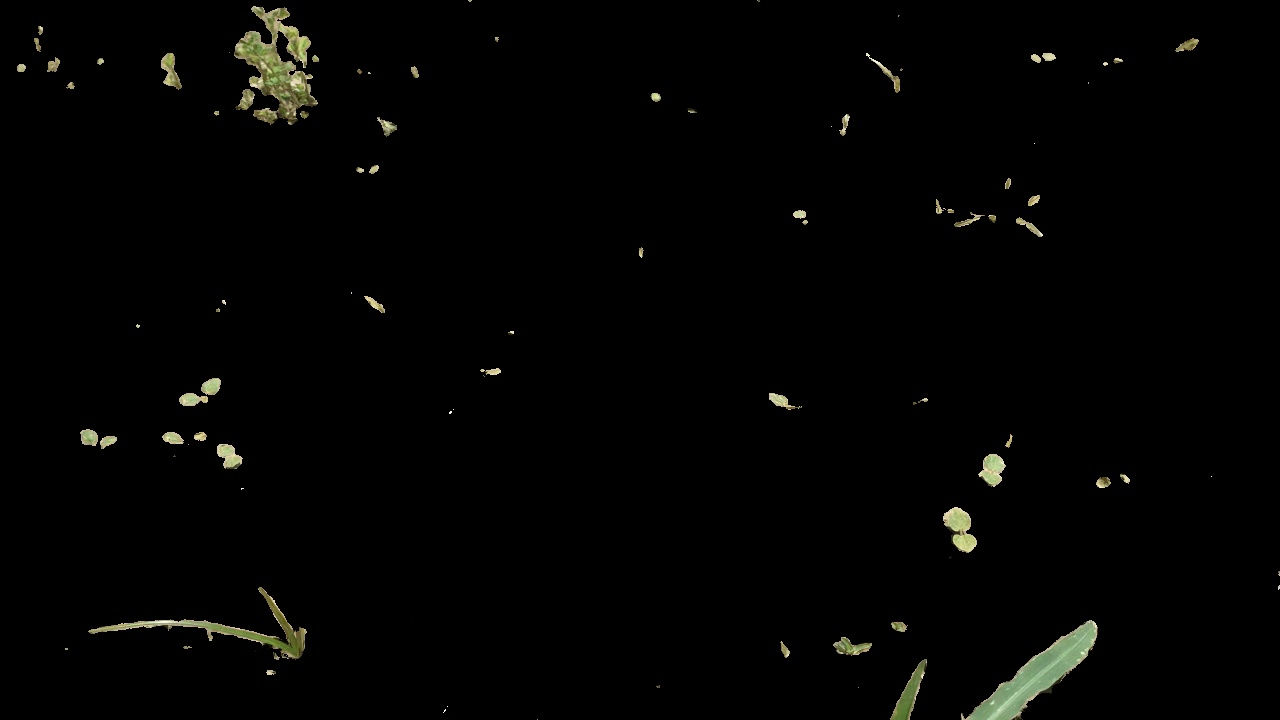crop: (872, 614, 1111, 717)
weed: (86, 582, 309, 661), (219, 1, 323, 131), (925, 168, 1058, 244), (859, 49, 908, 98), (943, 502, 985, 558), (151, 47, 192, 98), (828, 627, 876, 667), (176, 375, 225, 411), (973, 449, 1006, 495), (766, 384, 805, 414), (76, 422, 116, 447), (213, 441, 243, 474), (1027, 49, 1058, 68), (789, 207, 809, 225)
